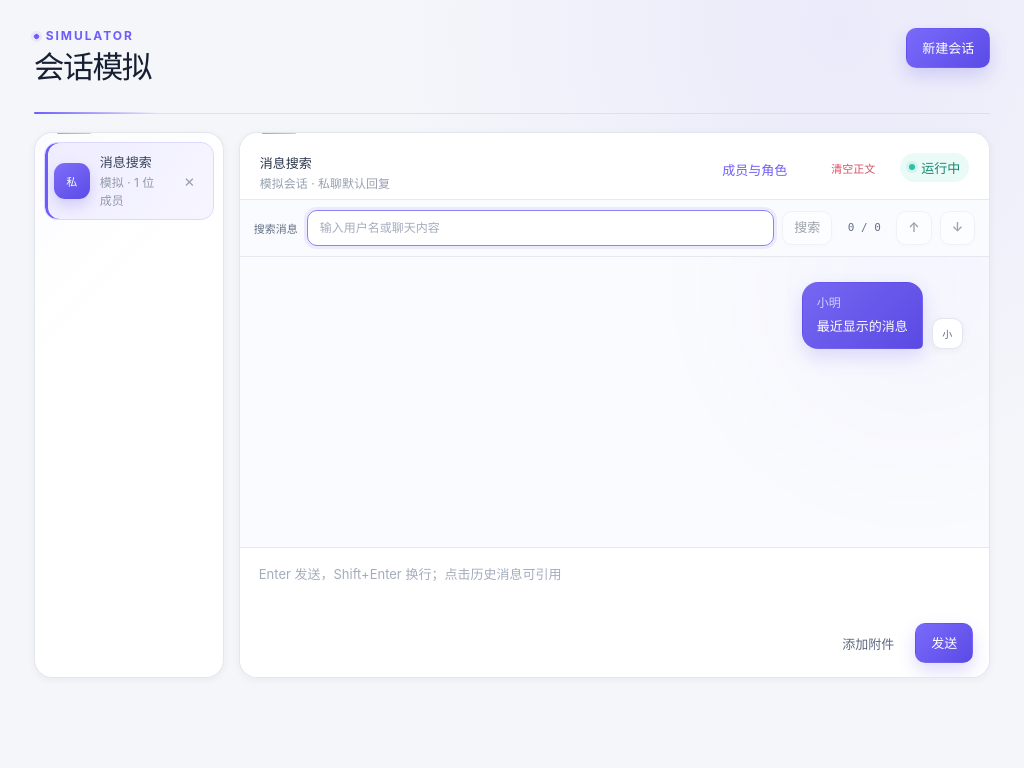
Test: ChatView › 搜索旧消息时加载上下文，并可切换结果后恢复原消息列表
Type "旧搜索结果" into the search field labelled "搜索消息" at {"x": 541, "y": 228}, box x1=307 y1=210 x2=774 y2=246
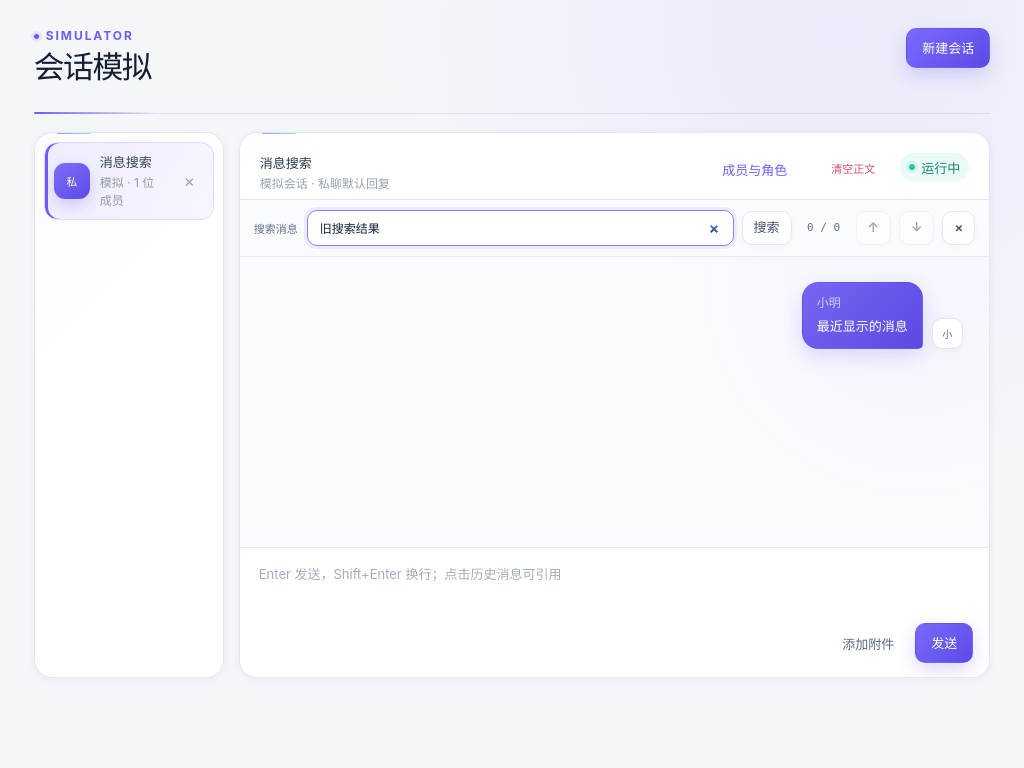
Submit the form with class "message-search", box x1=240 y1=200 x2=989 y2=256
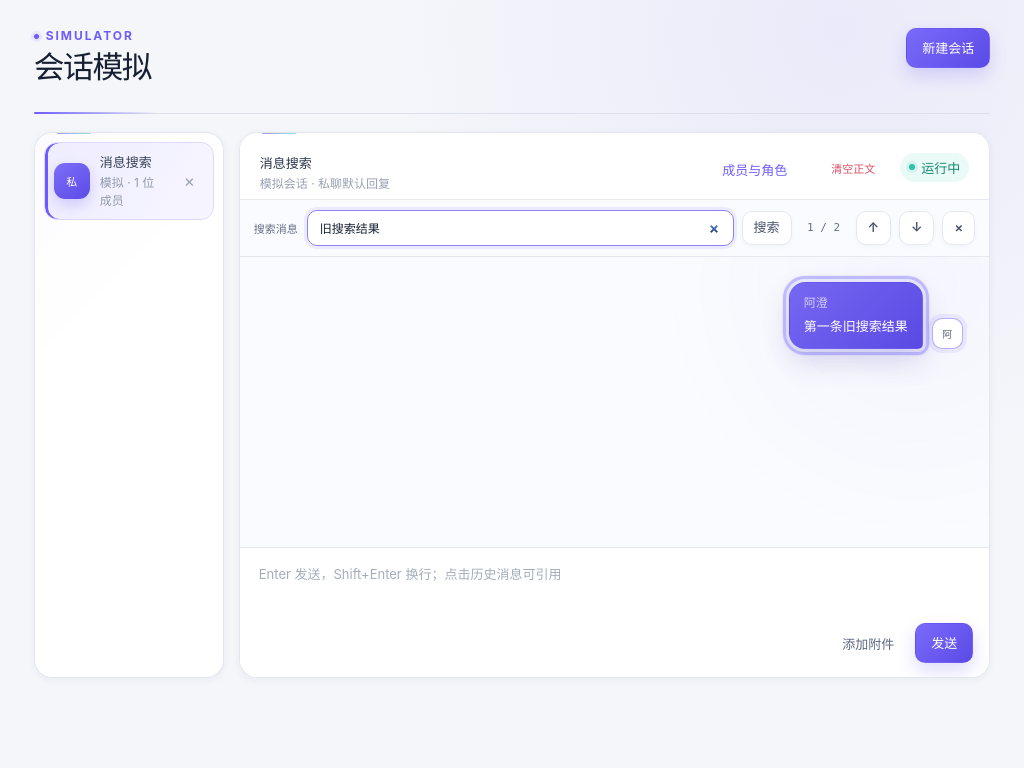
Expected: the text with class "message-search-position" reads "1 / 2", x1=807 y1=221 x2=840 y2=234
Expected: the text "第一条旧搜索结果" is shown, x1=804 y1=316 x2=908 y2=337
Click the button named "下一个搜索结果" at {"x": 917, "y": 228}, box x1=899 y1=210 x2=934 y2=244
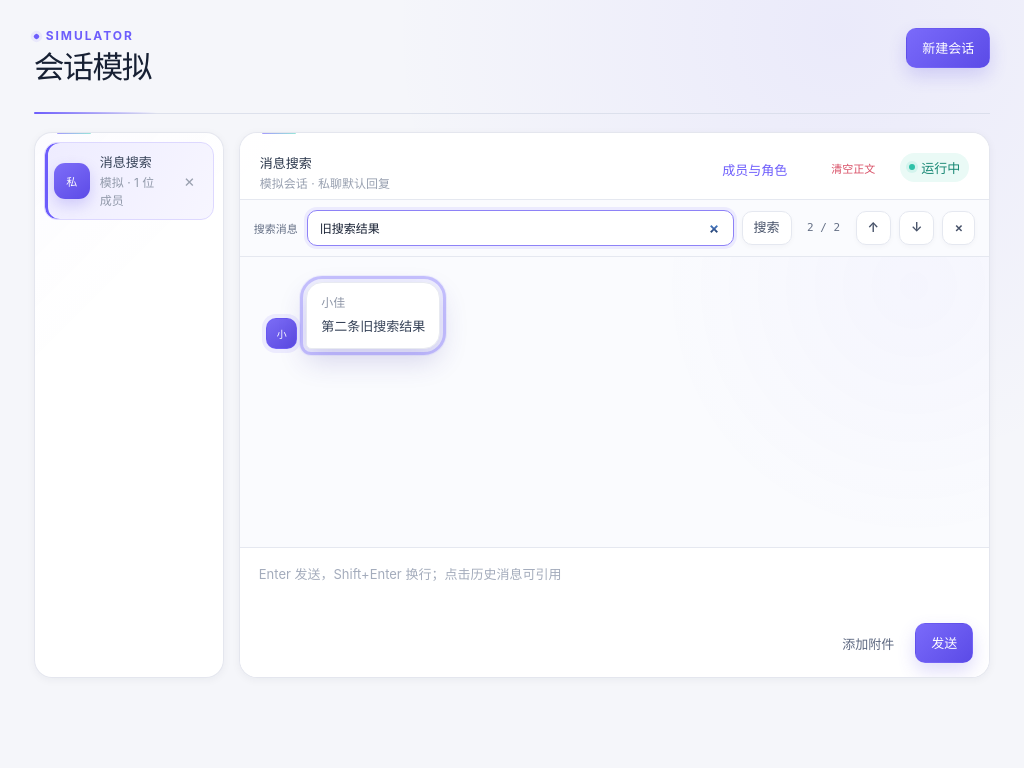
Expected: the text with class "message-search-position" reads "2 / 2", x1=807 y1=221 x2=840 y2=234
Expected: the text "第二条旧搜索结果" is shown, x1=321 y1=316 x2=425 y2=337
Click the button named "关闭消息搜索" at {"x": 959, "y": 228}, box x1=942 y1=210 x2=975 y2=244
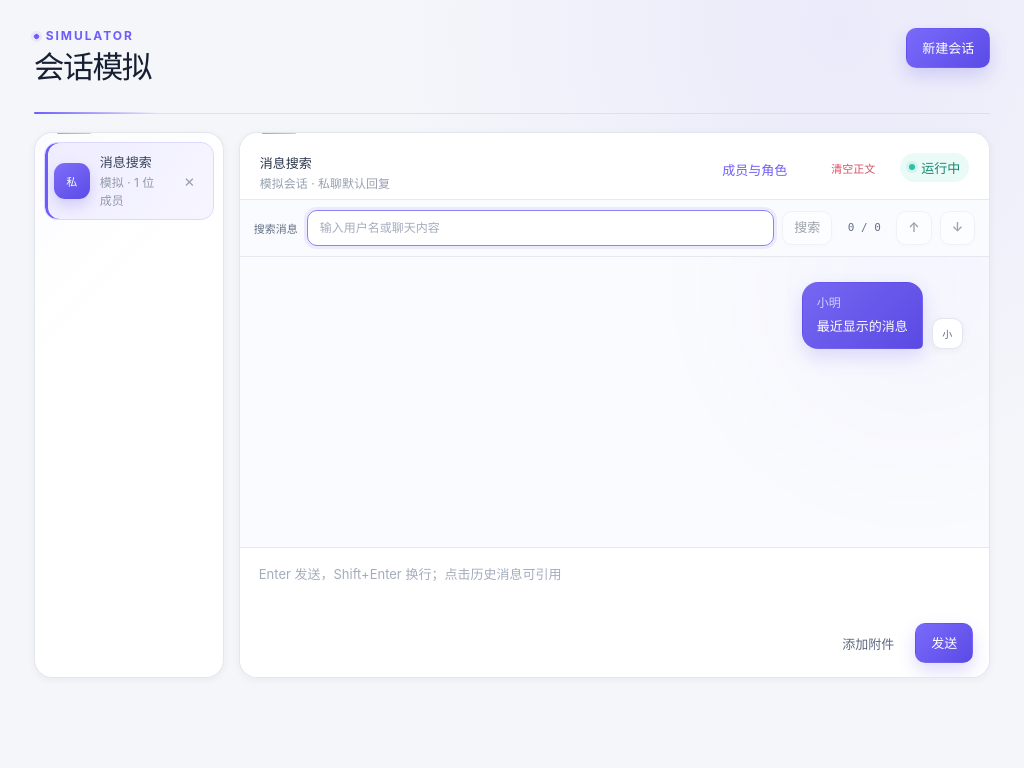
Expected: the text "最近显示的消息" is shown, x1=817 y1=316 x2=908 y2=337
